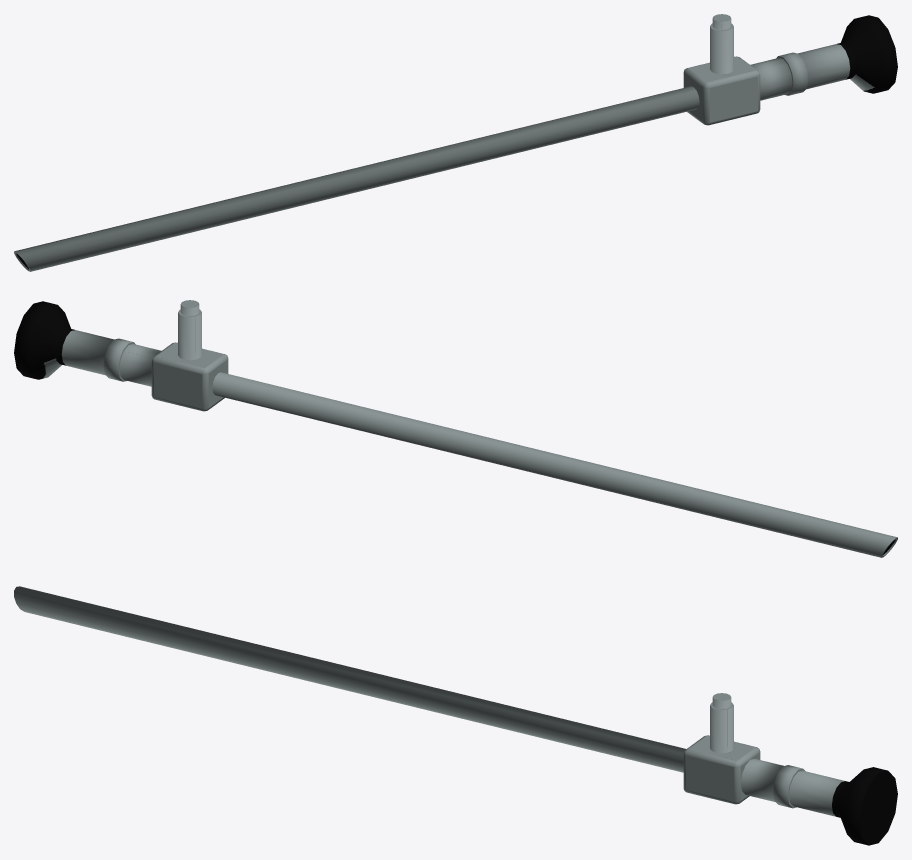
The model's file is laparoscope30.fbx.
3 views of the same model, one above another, from view 1: azimuth 30°, elevation 25°; view 2: azimuth 150°, elevation 25°; view 3: azimuth 330°, elevation 25° (orthographic).
Parts seen in each view (by area): view 1: Laparoscope30; view 2: Laparoscope30; view 3: Laparoscope30.
Part boxes in pixels (x1,y1,x2,y2): Laparoscope30: (14, 14, 897, 271); Laparoscope30: (14, 300, 897, 557); Laparoscope30: (14, 586, 897, 845).
Size of the model in its own units: 0.4183 by 0.0501 by 0.0325.
